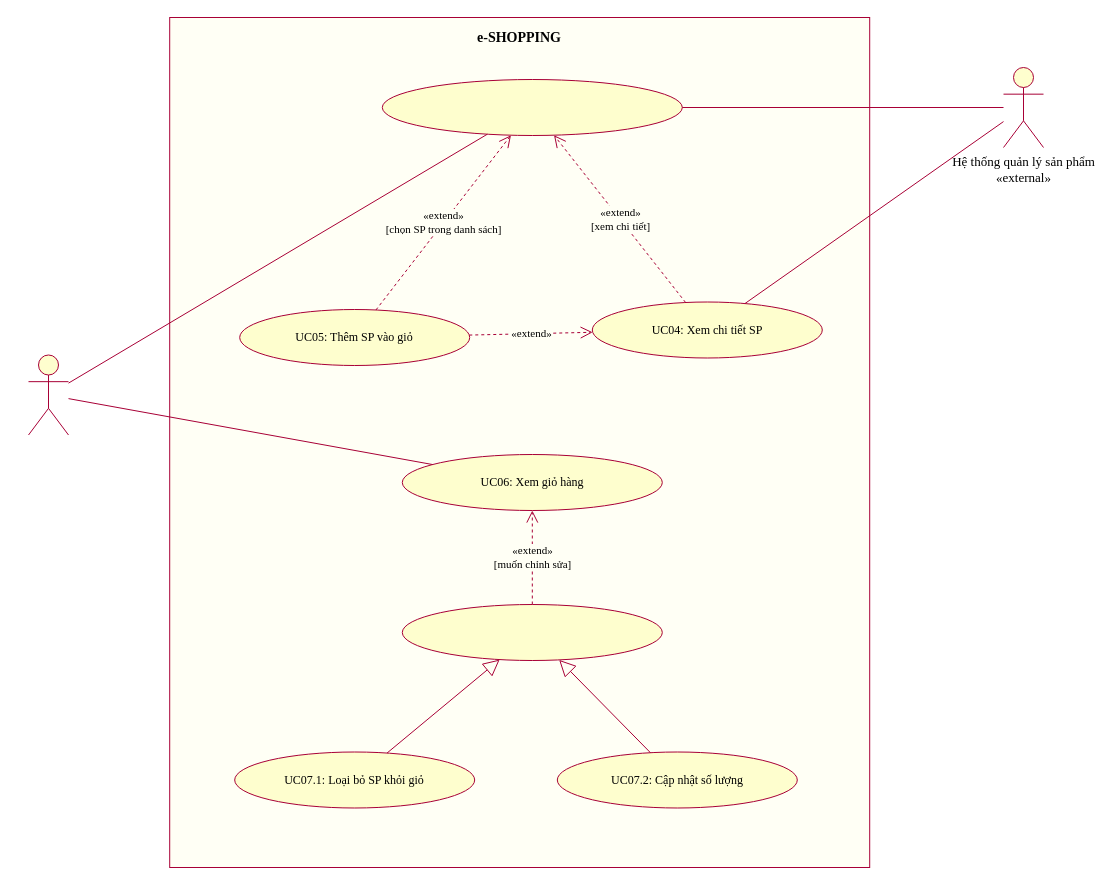
The diagram is 1112 pixels wide and 885 high, and some of its shapes have lost their labels. The box of each missing label's shape, as (x1, y1, x2, y2) in pixels:
Khách hàng: (28, 354, 68, 435)
UC03: Xem danh sách SP theo nhóm: (381, 78, 682, 136)
UC07: Cập nhật giỏ hàng: (401, 604, 662, 660)
